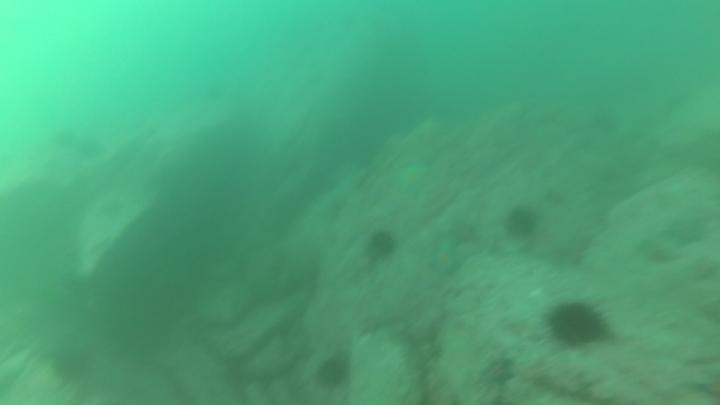echinus: (543, 297, 612, 353), (502, 205, 543, 244), (313, 358, 349, 394), (367, 229, 401, 262)
starfish: (442, 215, 484, 253), (662, 217, 708, 250), (487, 359, 519, 394), (356, 312, 390, 340)
